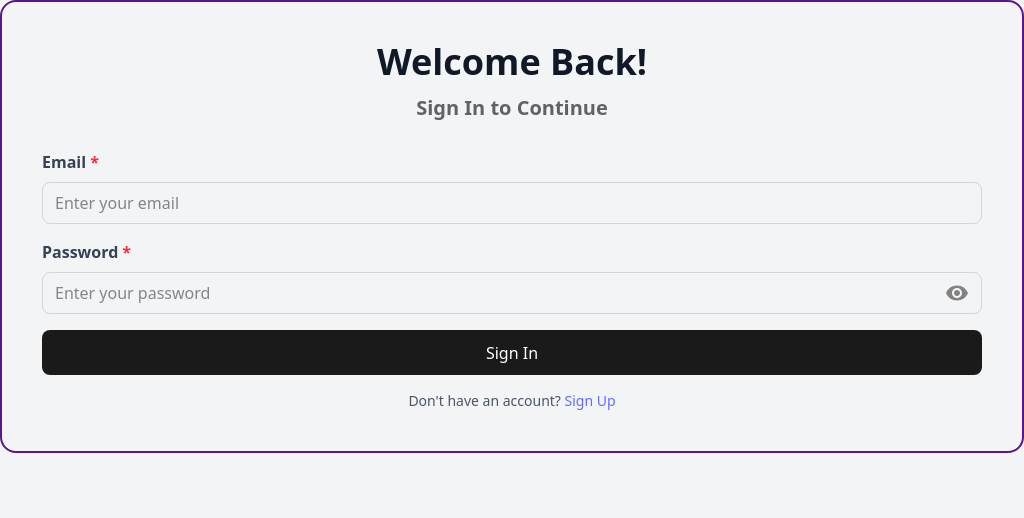
it: SignIn Component Tests › shows validation errors when email and password are empty
Click the button "Sign In".
click(512, 353)  # box [42, 330, 982, 375]
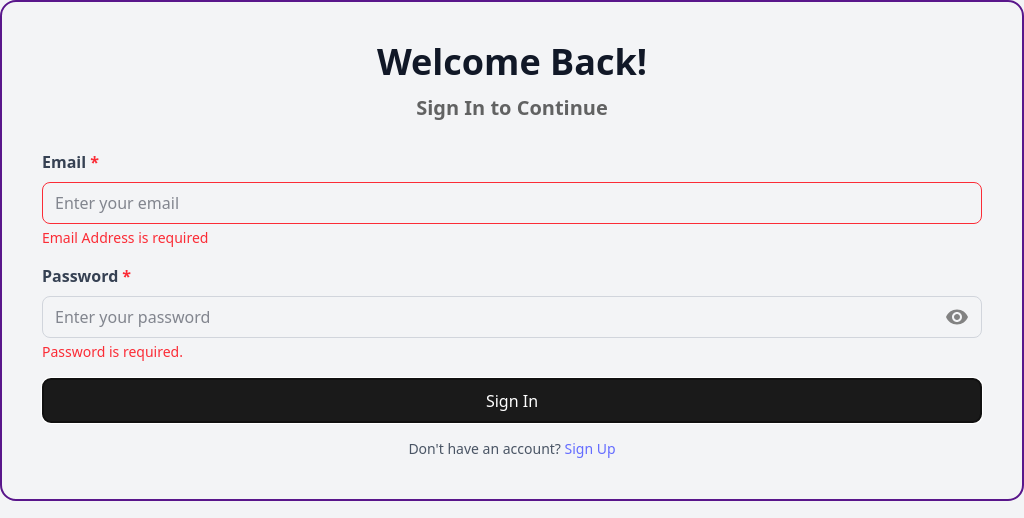
Now the text "Email Address is required" is shown, box [42, 228, 208, 247]
Now the text "Password is required." is shown, box [42, 342, 183, 361]
